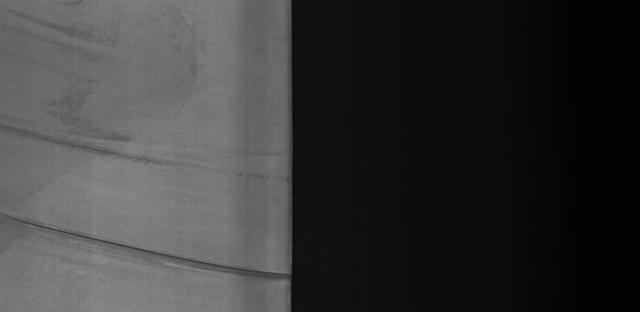rolled_pit: (3, 210, 289, 292), (2, 110, 293, 186)
